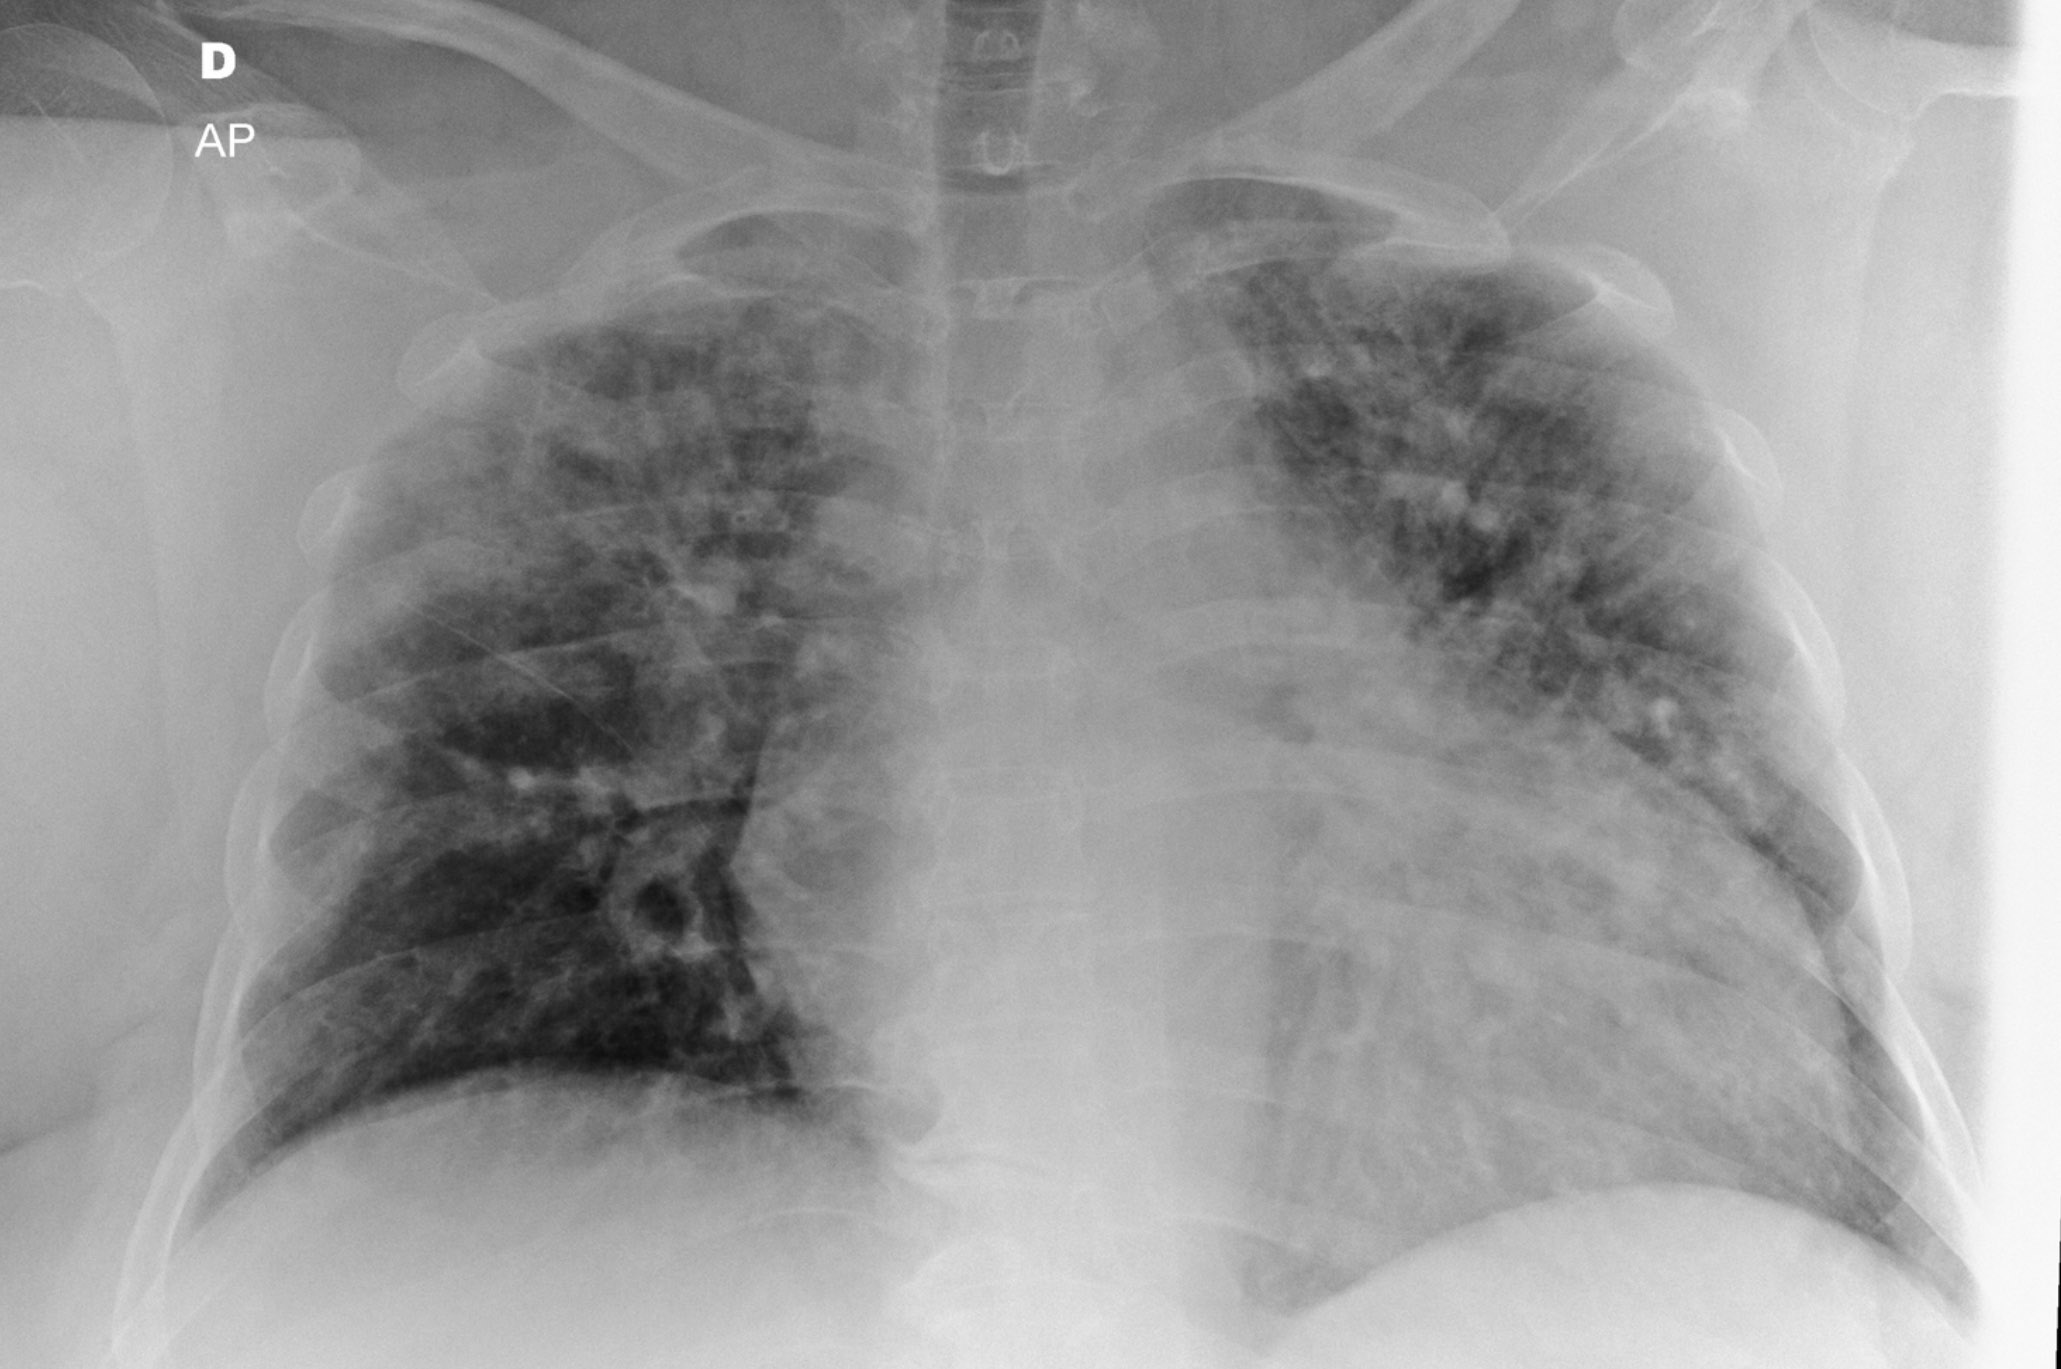Severe: (1189, 189, 1946, 1316), (203, 212, 897, 1154)
